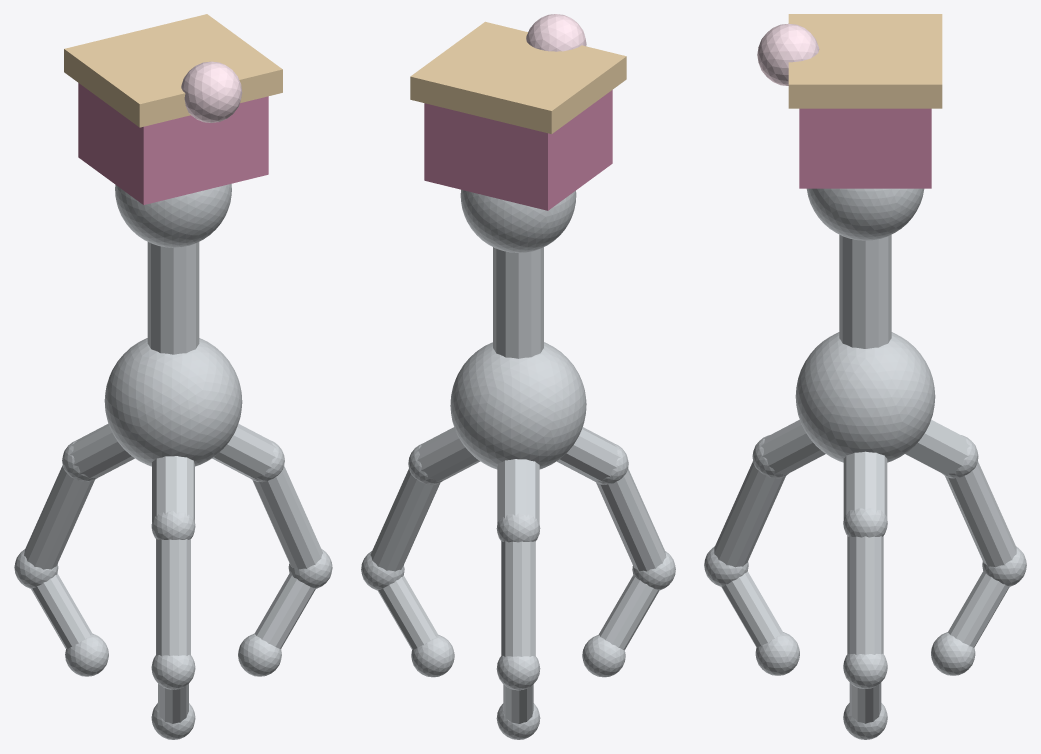
The model's file is mechanical_claw.glb.
3 renders of one model, left to right at view 1: azimuth 30°, elevation 25°; view 2: azimuth 150°, elevation 25°; view 3: azimuth 270°, elevation 25°, orthographic. The views are drawn at different scales.
Parts seen in each view (by area): view 1: upper_motor, hub, motor_cap, central_shaft, top_mount, finger_1_mid, finger_2_mid, finger_0_mid, pink_motor_gem, finger_1_top, finger_2_tip, finger_0_tip (+10 smaller); view 2: motor_cap, upper_motor, hub, central_shaft, top_mount, finger_2_mid, finger_1_mid, finger_0_mid, finger_2_top, finger_1_tip, finger_0_tip, finger_0_top (+10 smaller); view 3: hub, motor_cap, upper_motor, central_shaft, top_mount, finger_0_mid, finger_1_mid, finger_2_mid, finger_0_top, pink_motor_gem, finger_1_tip, finger_2_tip (+10 smaller).
Part boxes in pixels (x1,y1,x2,y2): upper_motor: [78, 83, 268, 204]; hub: [104, 338, 242, 466]; motor_cap: [64, 14, 282, 127]; central_shaft: [147, 242, 199, 354]; top_mount: [115, 183, 231, 247]; finger_1_mid: [156, 539, 190, 655]; finger_2_mid: [24, 465, 94, 569]; finger_0_mid: [252, 465, 322, 569]; pink_motor_gem: [181, 61, 242, 122]; finger_1_top: [152, 456, 194, 521]; finger_2_tip: [31, 573, 92, 648]; finger_0_tip: [254, 573, 315, 648]; motor_cap: [410, 21, 626, 134]; upper_motor: [424, 90, 612, 210]; hub: [450, 342, 586, 469]; central_shaft: [493, 247, 543, 358]; top_mount: [460, 189, 576, 252]; finger_2_mid: [501, 541, 535, 656]; finger_1_mid: [596, 468, 666, 571]; finger_0_mid: [370, 469, 440, 571]; finger_2_top: [497, 459, 539, 523]; finger_1_tip: [598, 575, 658, 649]; finger_0_tip: [378, 575, 438, 649]; finger_0_top: [416, 427, 480, 482]; hub: [795, 332, 935, 462]; motor_cap: [788, 14, 942, 108]; upper_motor: [799, 108, 931, 188]; central_shaft: [839, 234, 891, 348]; top_mount: [806, 188, 924, 240]; finger_0_mid: [847, 536, 883, 654]; finger_1_mid: [714, 461, 785, 567]; finger_2_mid: [945, 461, 1016, 567]; finger_0_top: [843, 451, 887, 518]; pink_motor_gem: [757, 23, 819, 85]; finger_1_tip: [721, 571, 783, 647]; finger_2_tip: [947, 571, 1009, 647].
Bounding box in the file's own units: 0.818 × 2.11 × 0.9247.
